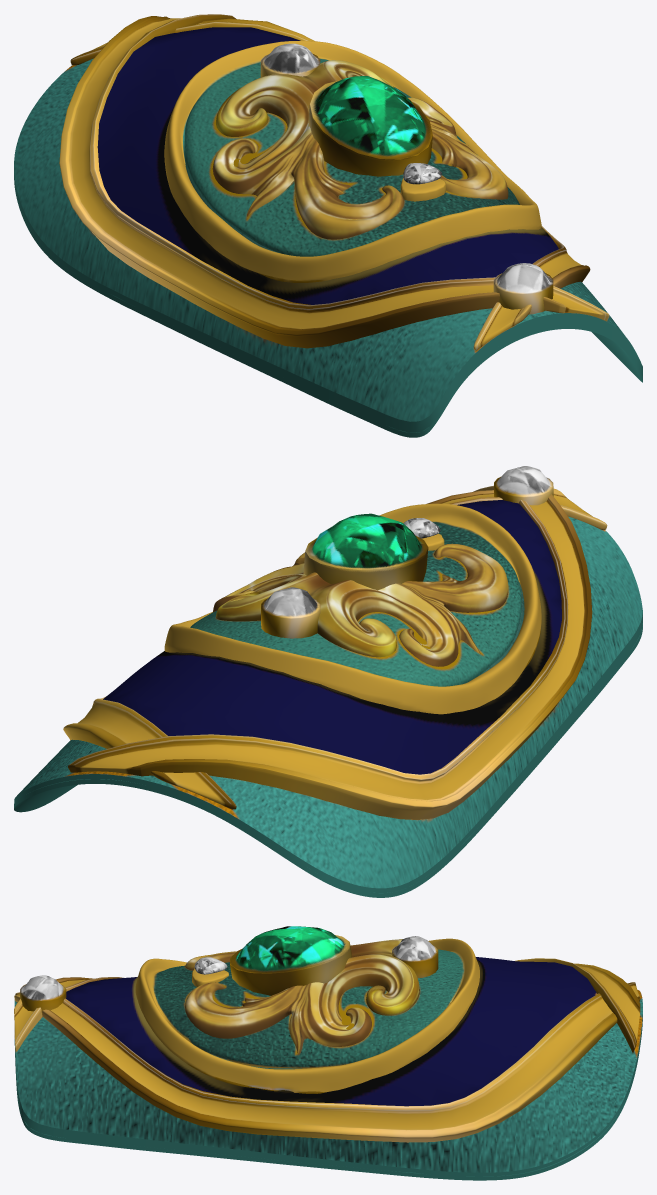
File: MF_aishen_damuzhi_L_tx02.obj
3 views of the same model, one above another, from view 1: azimuth 30°, elevation 25°; view 2: azimuth 150°, elevation 25°; view 3: azimuth 270°, elevation 25° (orthographic). The views are drawn at different scales.
Visible parts, largest first — view 1: MF_aishen_damuzhi_L_tx02, textureEditorIsolateSelectSet MF_aishen_damuzhi_L_tx02; view 2: MF_aishen_damuzhi_L_tx02, textureEditorIsolateSelectSet MF_aishen_damuzhi_L_tx02; view 3: MF_aishen_damuzhi_L_tx02, textureEditorIsolateSelectSet MF_aishen_damuzhi_L_tx02.
Boxes of the visible parts, x1=… form: MF_aishen_damuzhi_L_tx02: x1=14, y1=14, x2=642, y2=437; textureEditorIsolateSelectSet MF_aishen_damuzhi_L_tx02: x1=97, y1=27, x2=519, y2=304; MF_aishen_damuzhi_L_tx02: x1=14, y1=466, x2=642, y2=897; textureEditorIsolateSelectSet MF_aishen_damuzhi_L_tx02: x1=157, y1=500, x2=561, y2=774; MF_aishen_damuzhi_L_tx02: x1=14, y1=926, x2=642, y2=1180; textureEditorIsolateSelectSet MF_aishen_damuzhi_L_tx02: x1=66, y1=957, x2=596, y2=1104.
Size of the model in its own units: 11.94 by 7.16 by 22.46.
1 material, 1 textured.
